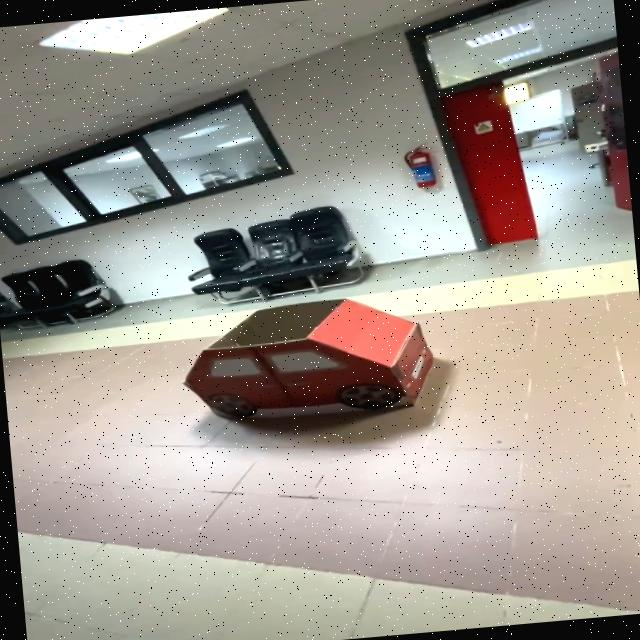red_car: (159, 279, 466, 443)
